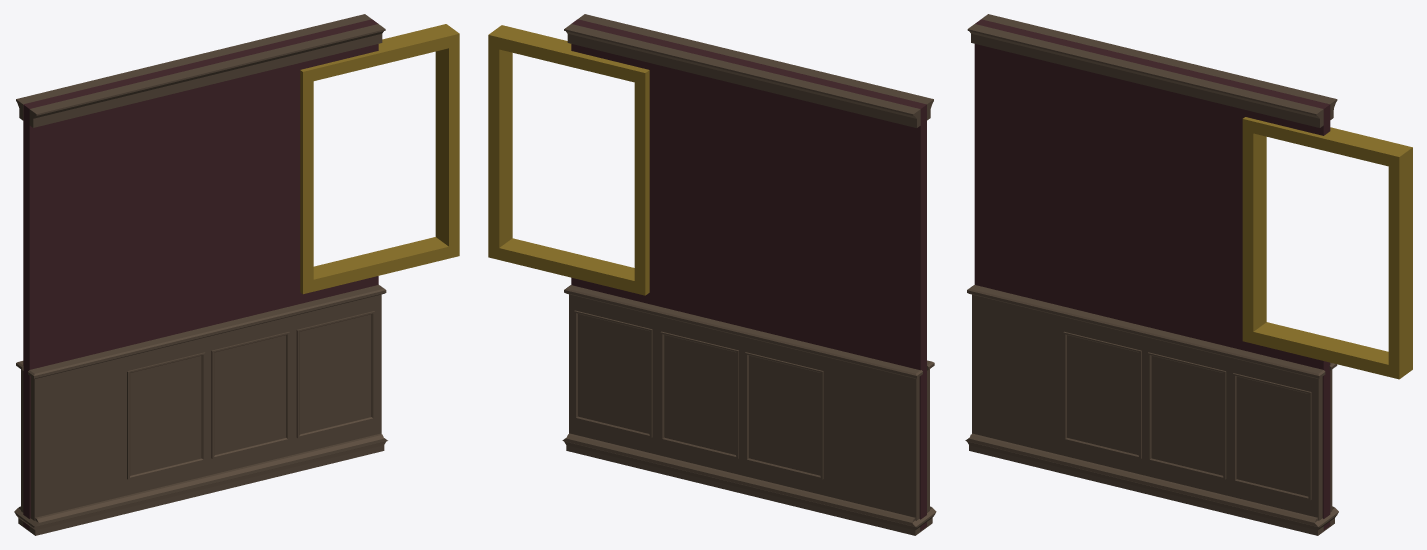
File: MansionInterior_WallHole.fbx
The picture shows the model from 3 angles, left to right: view 1: azimuth 30°, elevation 25°; view 2: azimuth 150°, elevation 25°; view 3: azimuth 330°, elevation 25°; orthographic projection.
Parts seen in each view (by area): view 1: polySurface24, pCube2, pCube58, pCube8, pCube5, pCube3, pCube33, pCube11, pCube6, pCube7; view 2: polySurface24, pCube2, pCube58, pCube33, pCube5, pCube3, pCube8, pCube4, pCube7, pCube6; view 3: polySurface24, pCube2, pCube58, pCube8, pCube5, pCube3, pCube33, pCube7, pCube6, pCube11.
Boxes of the visible parts, x1,y1,x2,y2 form: polySurface24: [23, 19, 378, 530]; pCube2: [30, 294, 381, 520]; pCube58: [300, 24, 459, 294]; pCube8: [29, 24, 385, 127]; pCube5: [20, 433, 387, 535]; pCube3: [28, 285, 386, 378]; pCube33: [16, 14, 371, 120]; pCube11: [296, 311, 375, 438]; pCube6: [127, 352, 205, 479]; pCube7: [211, 332, 289, 458]; polySurface24: [571, 19, 926, 530]; pCube2: [569, 294, 919, 520]; pCube58: [488, 25, 649, 295]; pCube33: [564, 24, 920, 127]; pCube5: [562, 433, 929, 535]; pCube3: [564, 285, 922, 378]; pCube8: [578, 14, 933, 120]; pCube4: [574, 310, 652, 437]; pCube7: [745, 352, 823, 479]; pCube6: [660, 331, 738, 458]; polySurface24: [974, 19, 1330, 530]; pCube2: [972, 294, 1322, 520]; pCube58: [1242, 117, 1412, 379]; pCube8: [967, 24, 1323, 127]; pCube5: [965, 433, 1332, 535]; pCube3: [967, 285, 1325, 378]; pCube33: [981, 14, 1337, 119]; pCube7: [1147, 352, 1226, 479]; pCube6: [1063, 331, 1141, 458]; pCube11: [1233, 373, 1311, 500].
Bounding box in the file's own units: 62.14 × 58.45 × 5.29.
